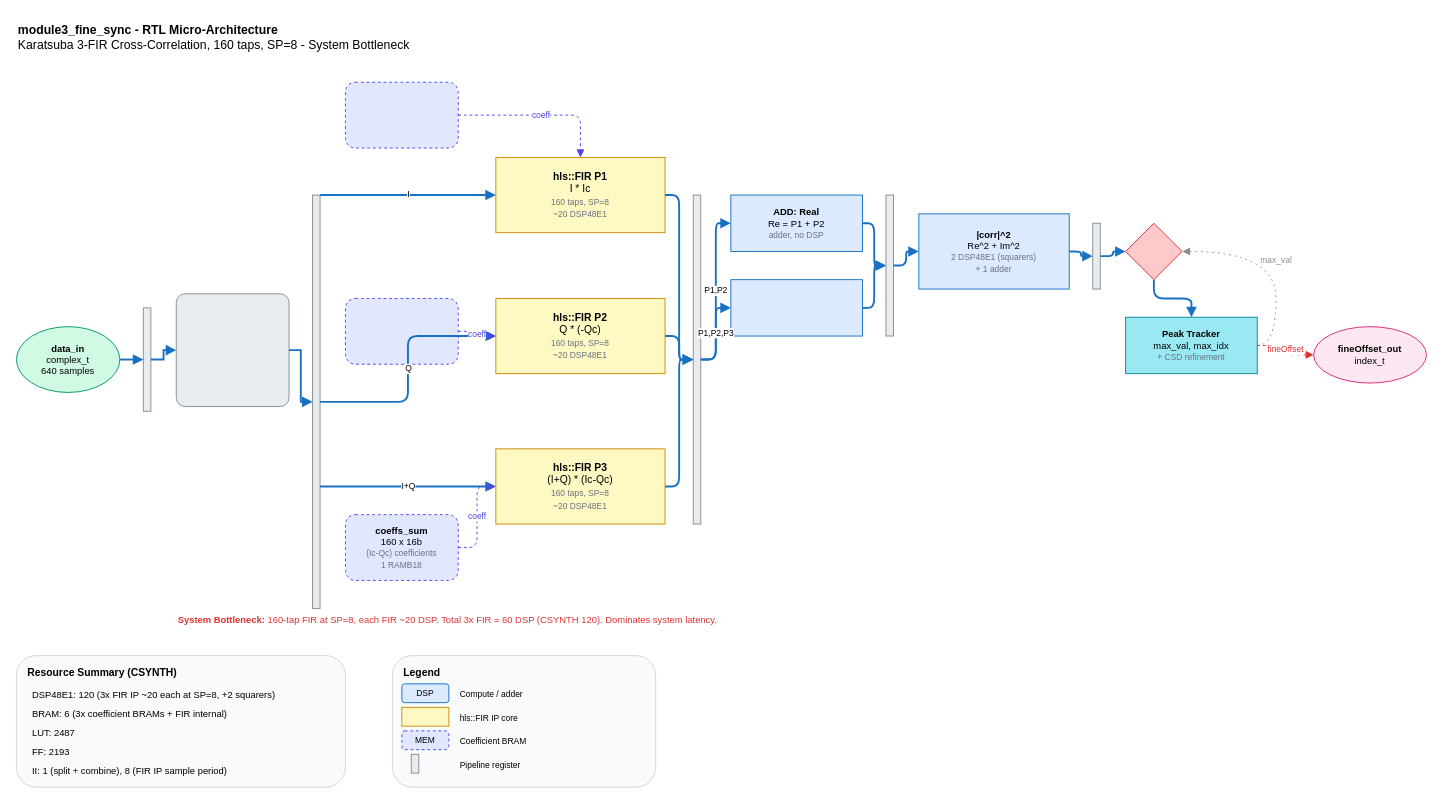
The diagram is 1443 pixels wide and 804 high, and some of its shapes have lost their labels. The centre of each missing label's shape, as x and y in pixels:
> max: point (1153, 251)
ADD: Imag Im = P3 - P1 + P2 2 adders, no DSP: point (796, 307)
coeffs_im 160 x 16b -Qc coefficients 1 RAMB18: point (401, 331)
coeffs_re 160 x 16b Ic coefficients 1 RAMB18: point (401, 114)
FIR: point (425, 716)
SPLIT Complex -> 3 Real I = Re(x) Q = Im(x) S = I + Q: point (232, 350)
